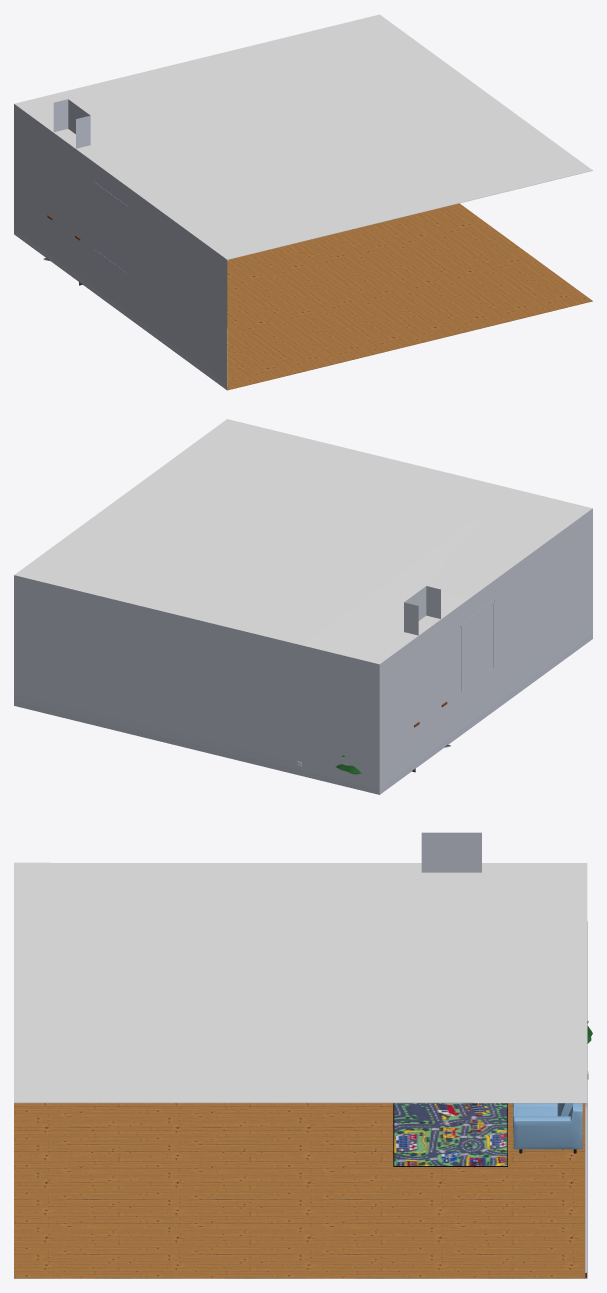
The model's file is briqs_box_xmas.glb.
3 views of the same model, one above another, from view 1: azimuth 30°, elevation 25°; view 2: azimuth 150°, elevation 25°; view 3: azimuth 270°, elevation 25° (orthographic). The views are drawn at different scales.
Parts seen in each view (by area): view 1: room, fireplace; view 2: room, fireplace; view 3: room, car_rug, sofa, fireplace.
Part boxes in pixels (x1,y1,x2,y2): room: (14, 14, 592, 390); fireplace: (43, 99, 90, 285); room: (14, 419, 592, 794); fireplace: (404, 586, 450, 772); room: (14, 862, 587, 1278); car_rug: (393, 1103, 507, 1166); sofa: (513, 1103, 582, 1153); fireplace: (421, 832, 481, 872).
Size of the model in its own units: 9.99 by 4.16 by 10.09.
Materials: 39 (8 with a texture image).
